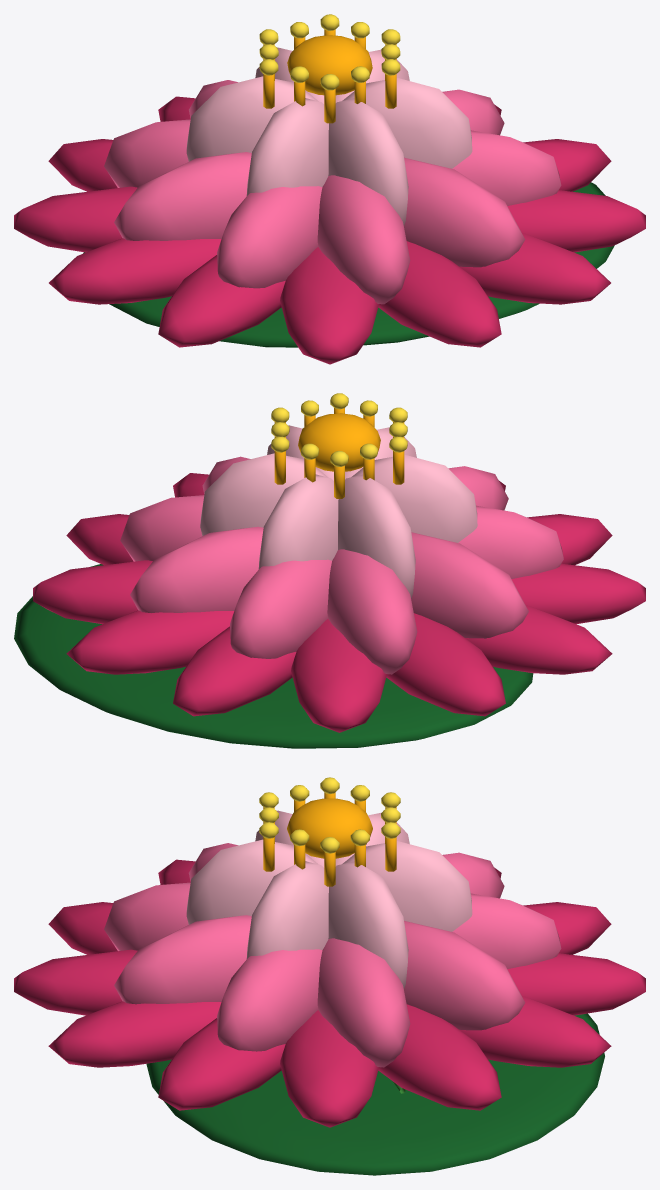
The model's file is lotus.glb.
The picture shows the model from 3 angles, top to bottom: view 1: azimuth 30°, elevation 25°; view 2: azimuth 150°, elevation 25°; view 3: azimuth 270°, elevation 25°; orthographic projection. The views are drawn at different scales.
Parts seen in each view (by area): view 1: lotus; view 2: lotus; view 3: lotus.
Part boxes in pixels (x1,y1,x2,y2): lotus: (14,14,645,364); lotus: (14,393,645,748); lotus: (14,777,645,1175).
Size of the model in its own units: 1 by 0.4266 by 0.9741.
1 material, 1 textured.
